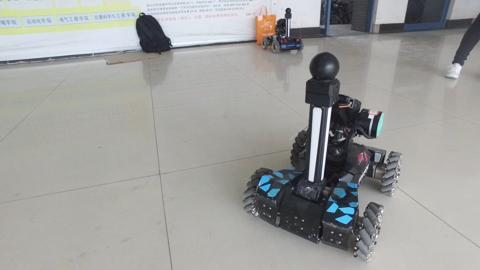bag: (134, 11, 175, 56), (254, 4, 278, 46)
chariot: (241, 51, 404, 260), (259, 7, 305, 53)
